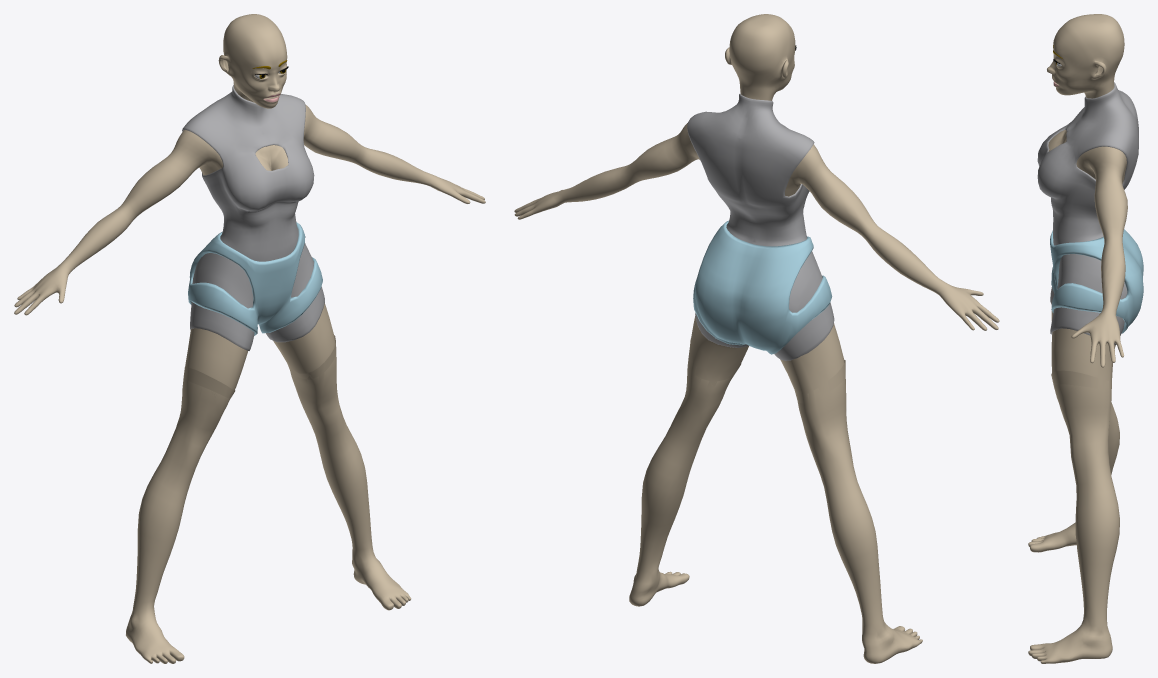
File: Hero_Suit_001.fbx
The picture shows the model from 3 angles, left to right: view 1: azimuth 30°, elevation 25°; view 2: azimuth 150°, elevation 25°; view 3: azimuth 270°, elevation 25°; orthographic projection. The views are drawn at different scales.
Parts seen in each view (by area): view 1: Body_Geo, Suit_Geo, Suit_Harness_Geo; view 2: Body_Geo, Suit_Geo, Suit_Harness_Geo; view 3: Body_Geo, Suit_Geo, Suit_Harness_Geo.
Part boxes in pixels (x1,y1,x2,y2): Body_Geo: (14, 14, 485, 663); Suit_Geo: (126, 85, 410, 663); Suit_Harness_Geo: (188, 222, 322, 335); Body_Geo: (514, 14, 999, 663); Suit_Geo: (629, 93, 922, 663); Suit_Harness_Geo: (693, 220, 832, 354); Body_Geo: (1028, 14, 1127, 663); Suit_Geo: (1028, 82, 1138, 663); Suit_Harness_Geo: (1050, 229, 1143, 333).
Size of the model in its own units: 29.25 by 35.27 by 6.32.
